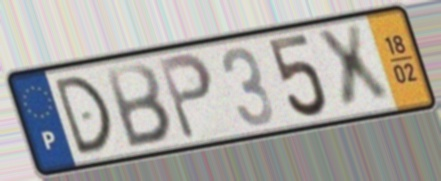3: (220, 45, 275, 128)
5: (264, 30, 330, 120)
B: (102, 60, 175, 151)
D: (50, 72, 117, 159)
P: (154, 49, 216, 143)
X: (311, 20, 396, 115)
